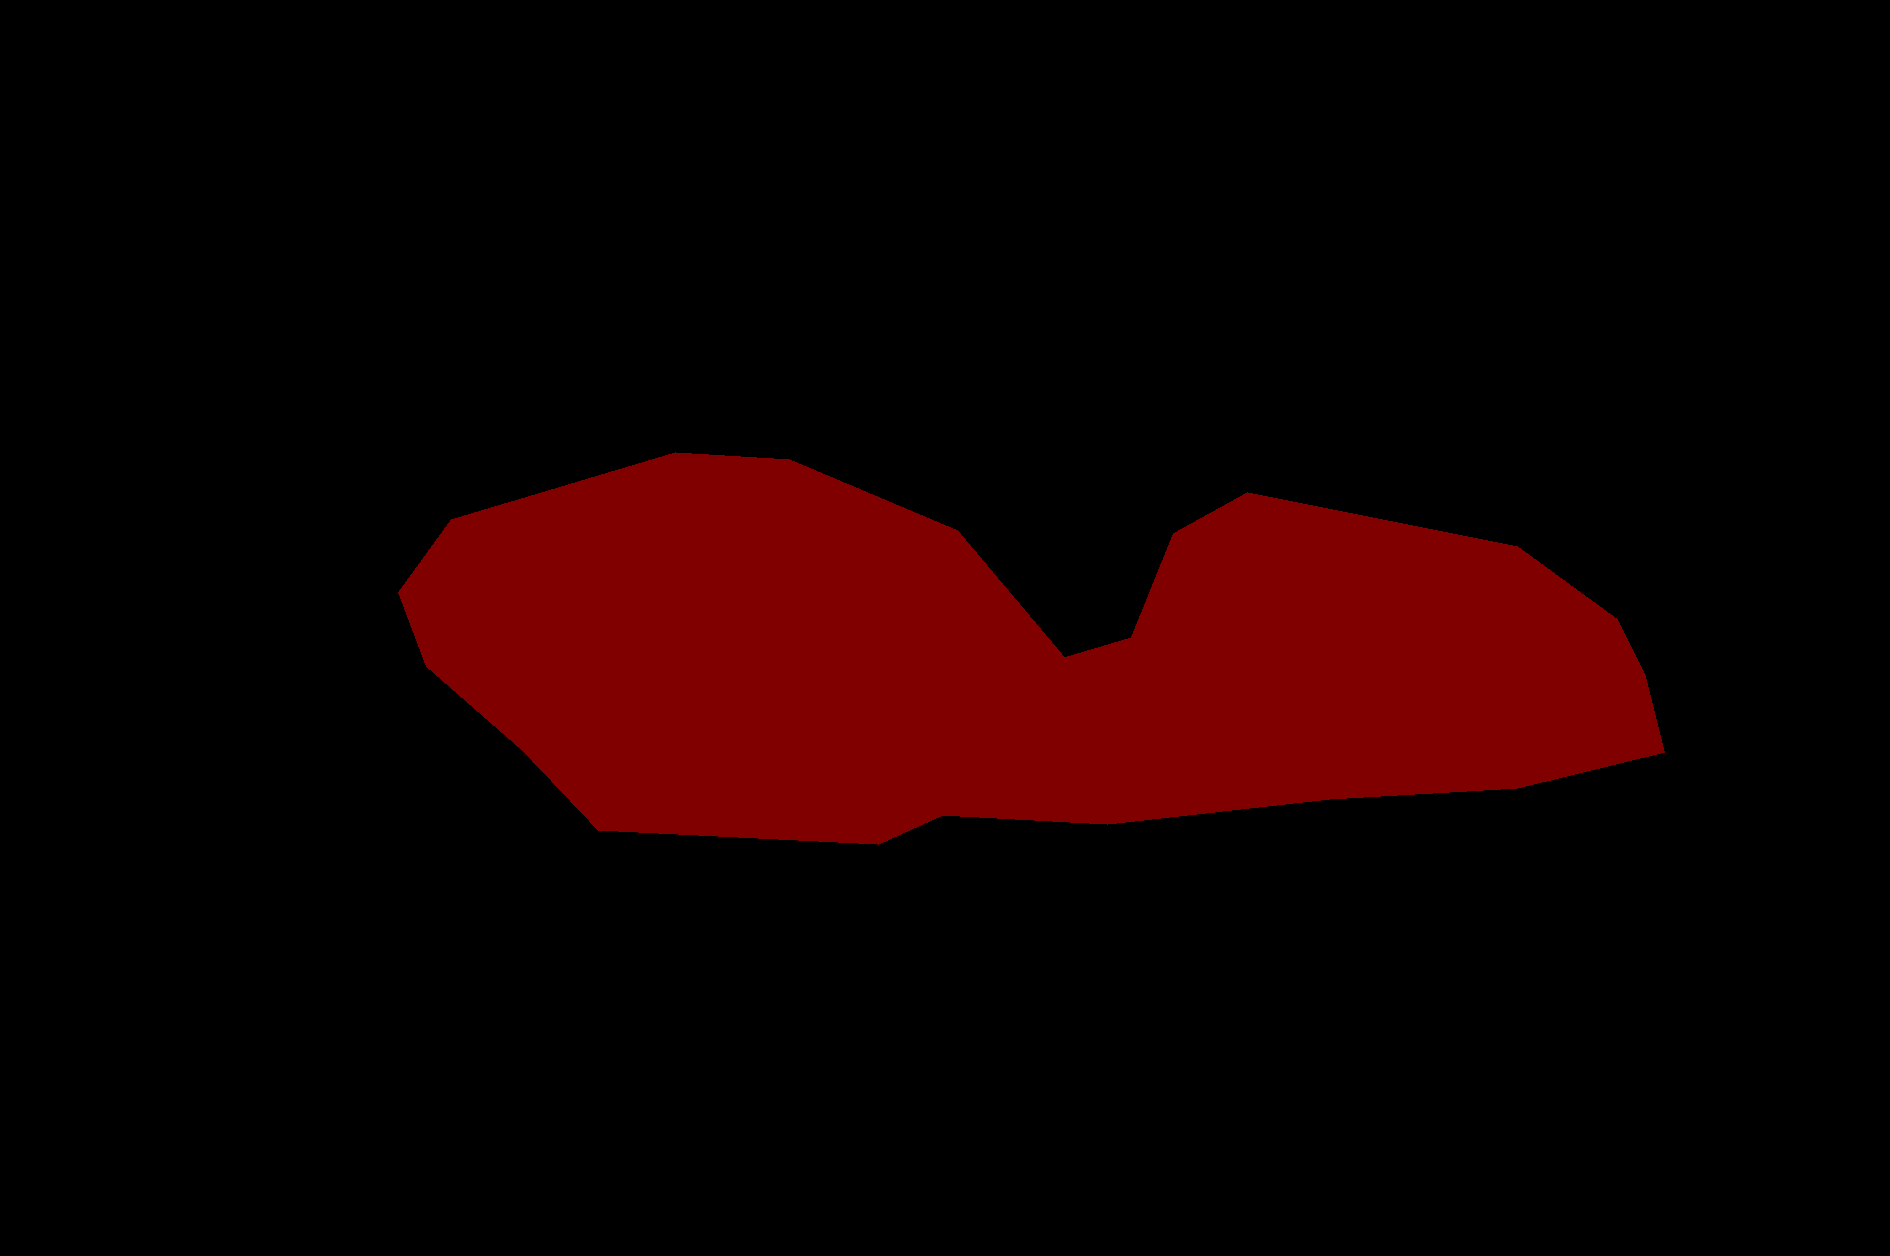fire: (398, 451, 1664, 844)
